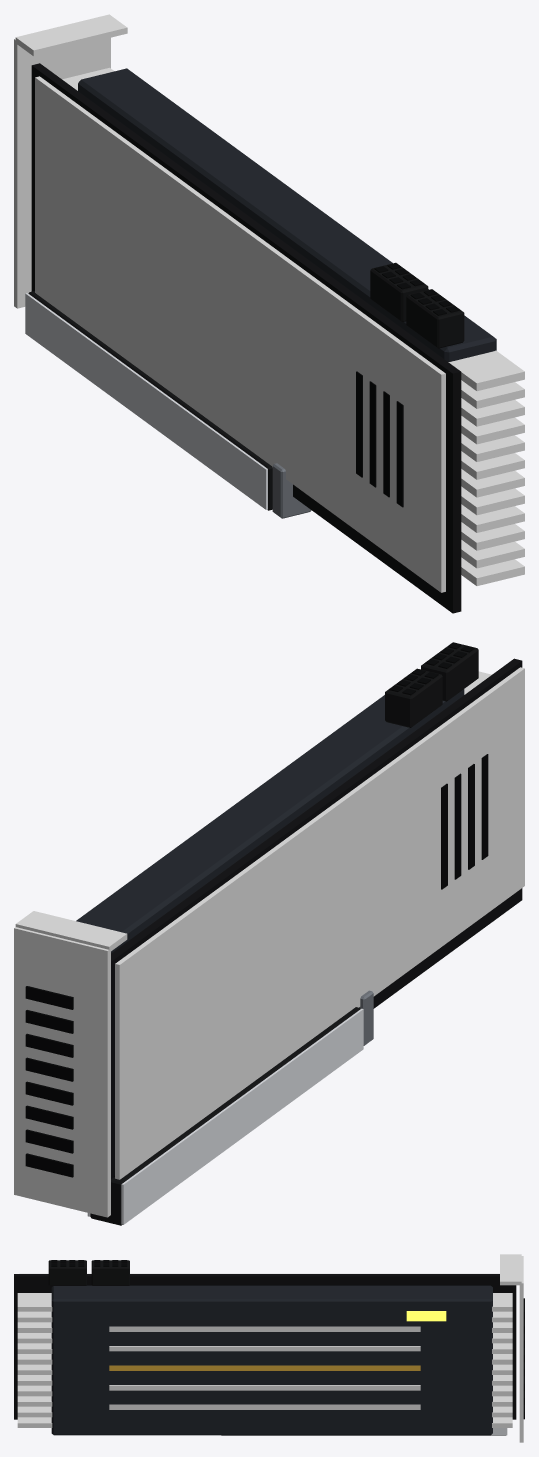
The model's file is hwm_gpu_a40.glb.
3 views of the same model, one above another, from view 1: azimuth 30°, elevation 25°; view 2: azimuth 150°, elevation 25°; view 3: azimuth 270°, elevation 25° (orthographic). The views are drawn at different scales.
Parts seen in each view (by area): view 1: Card_0, Slot_0; view 2: Card_0, Slot_0; view 3: Card_0, Slot_0.
Part boxes in pixels (x1=…): Card_0: x1=14, y1=14, x2=524, y2=613; Slot_0: x1=25, y1=291, x2=311, y2=518; Card_0: x1=14, y1=642, x2=524, y2=1217; Slot_0: x1=87, y1=990, x2=373, y2=1225; Card_0: x1=14, y1=1254, x2=524, y2=1442; Slot_0: x1=221, y1=1428, x2=507, y2=1435.
Size of the model in its own units: 0.0369 by 0.1076 by 0.2849.
